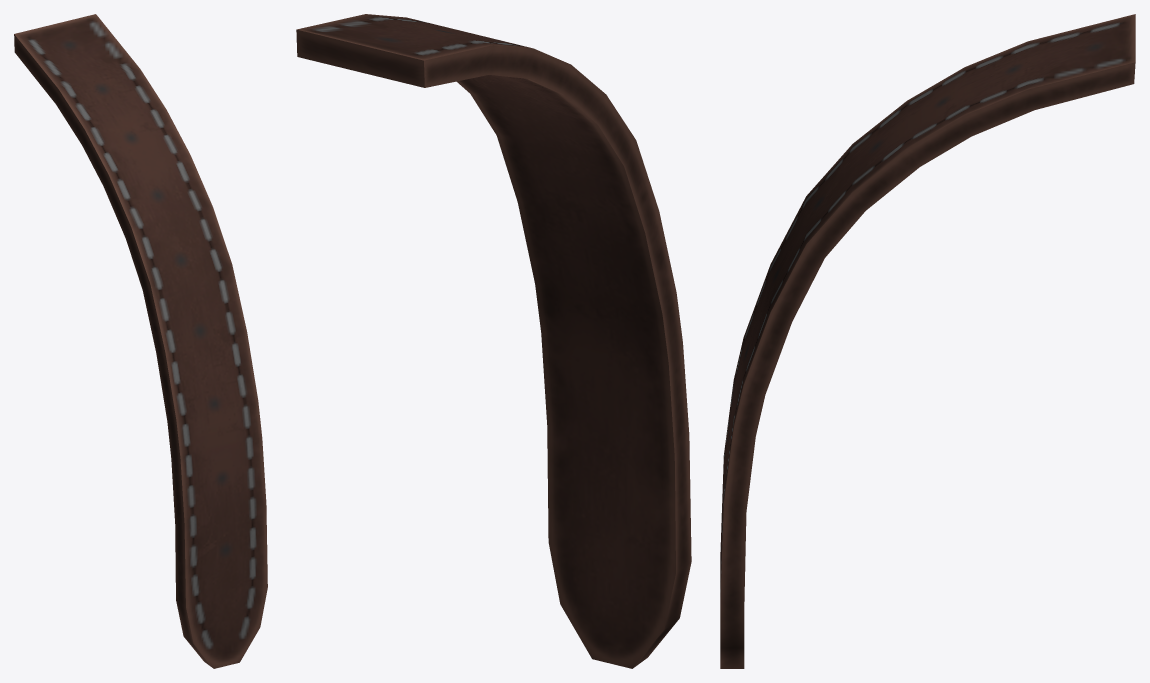
File: StrapEnd_Curved.fbx
3 renders of one model, left to right at view 1: azimuth 30°, elevation 25°; view 2: azimuth 150°, elevation 25°; view 3: azimuth 270°, elevation 25°, orthographic. The views are drawn at different scales.
Visible parts, largest first — view 1: StrapEnd_Curved_LOD0; view 2: StrapEnd_Curved_LOD0; view 3: StrapEnd_Curved_LOD0.
Part boxes in pixels (bbox=[...]): StrapEnd_Curved_LOD0: bbox=[14, 14, 267, 668]; StrapEnd_Curved_LOD0: bbox=[296, 14, 691, 668]; StrapEnd_Curved_LOD0: bbox=[720, 14, 1135, 668].
Size of what is drawn, in the model's own units: 14.01 by 84.32 by 50.91.
